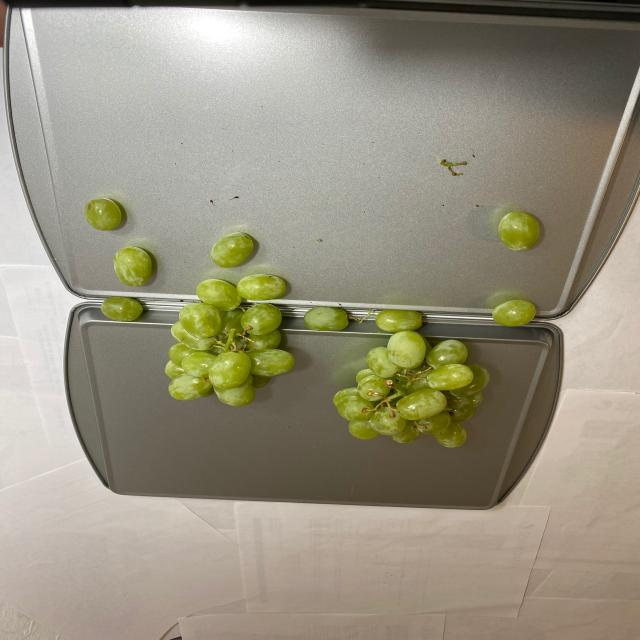grapes: (92, 198, 534, 448)
